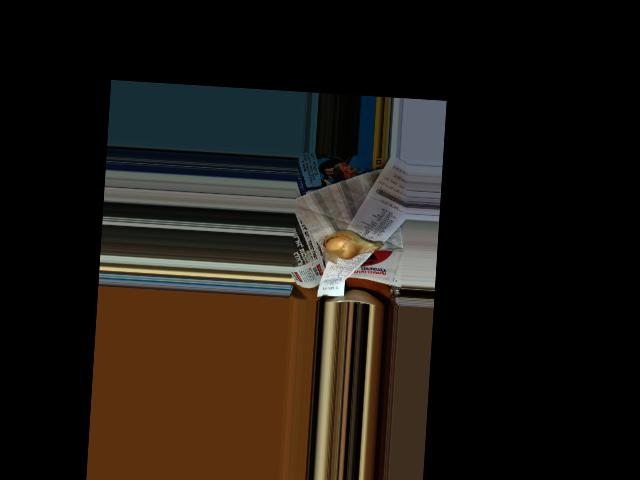onion: (324, 227, 377, 259)
